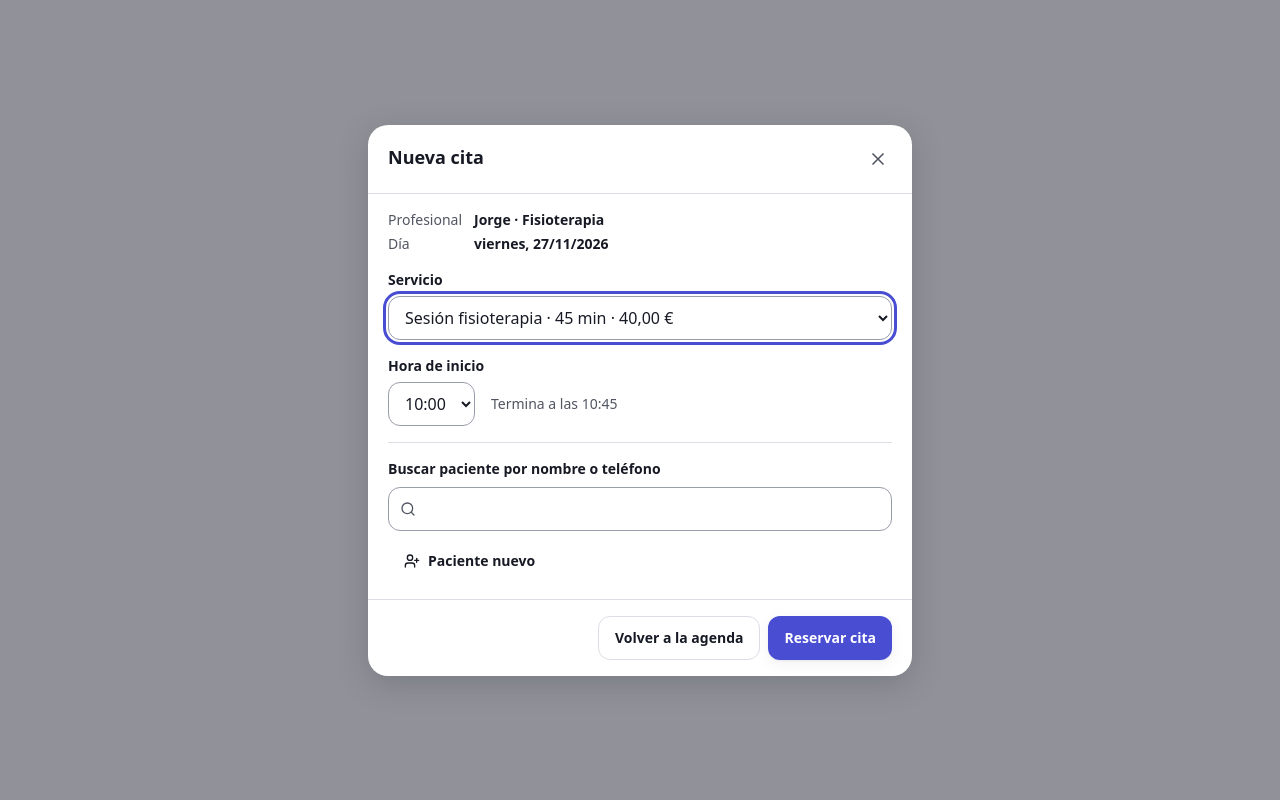
Test: DialogoAltaCita › [001][FR-018] el buscador encuentra pacientes por nombre o teléfono a partir de 2 caracteres
The width and height of the screenshot is (1280, 800).
In the dropdown labelled "Buscar paciente por nombre o teléfono": [640, 508] box [388,486,892,530], type "a"
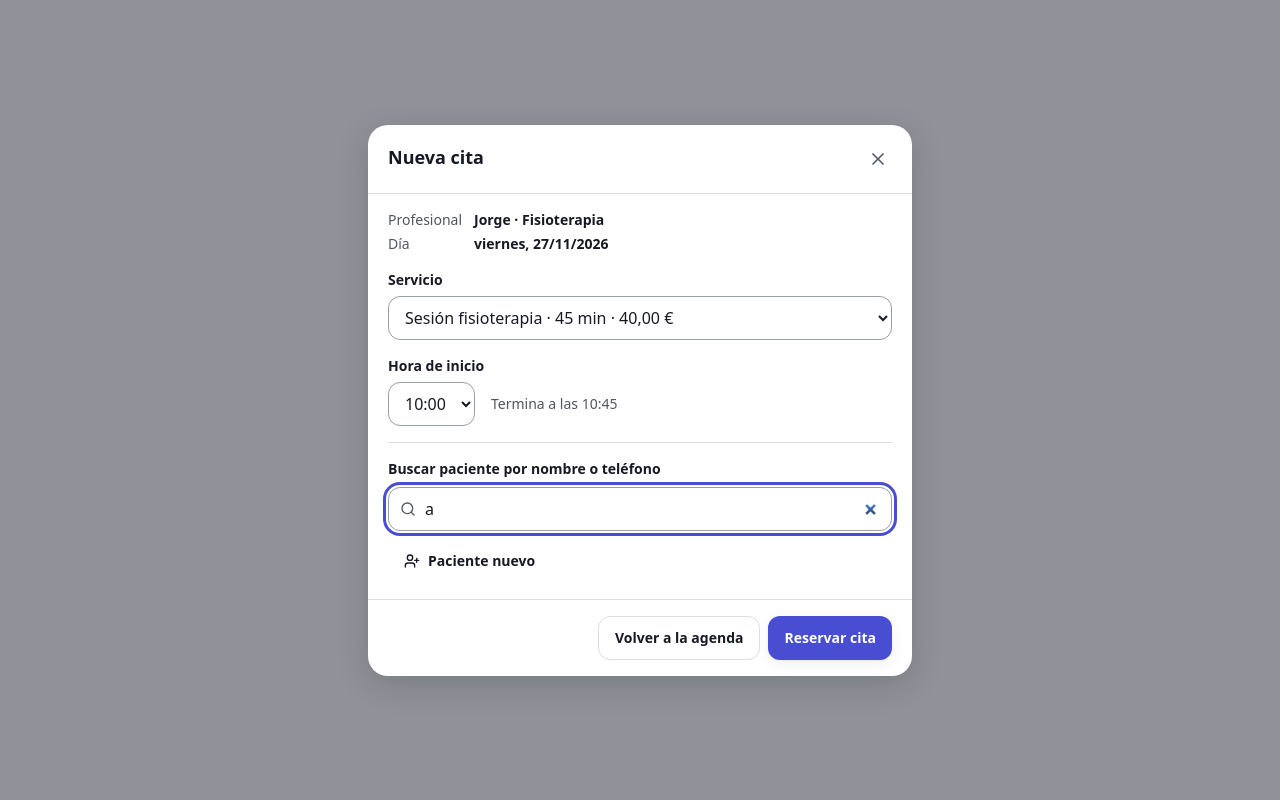
In the dropdown labelled "Buscar paciente por nombre o teléfono": [640, 508] box [388,486,892,530], type "n"
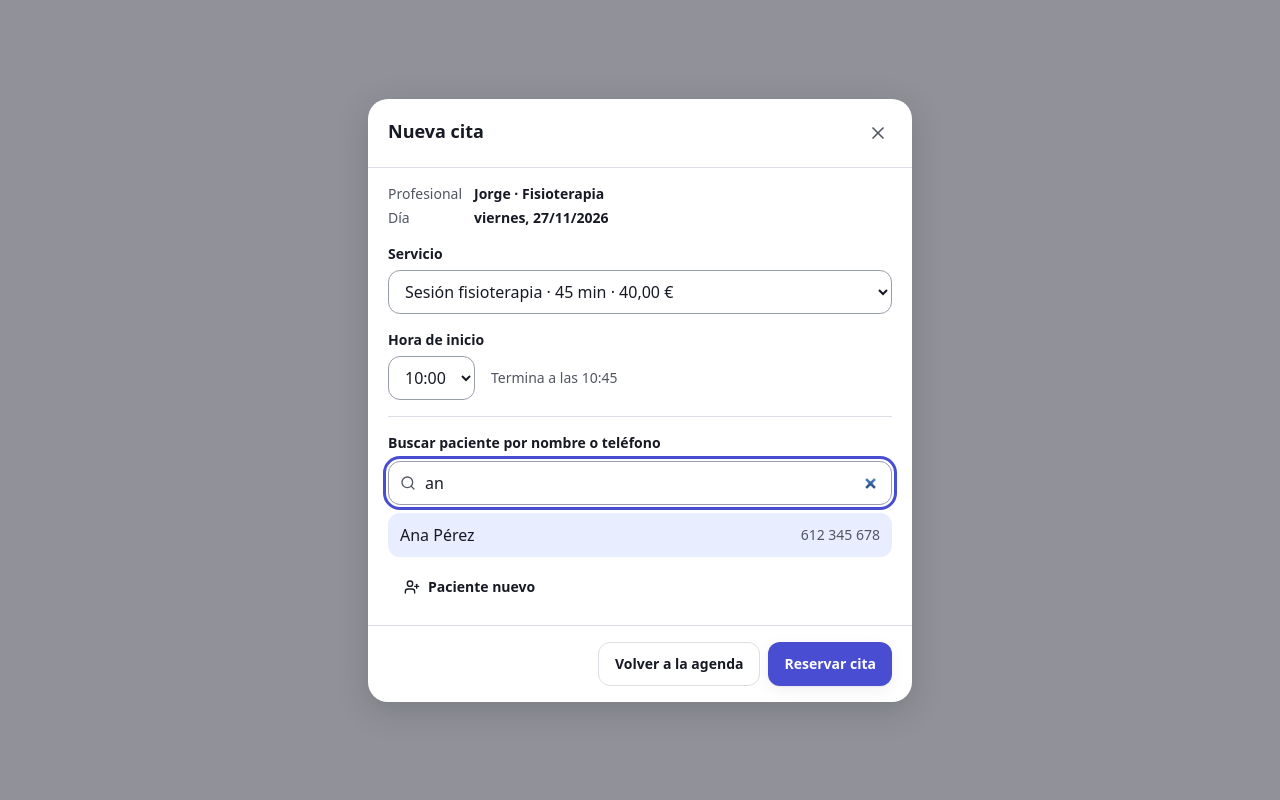
Result: the option "Ana Pérez 612 345 678" is shown at [388,512,892,556]
Press Enter
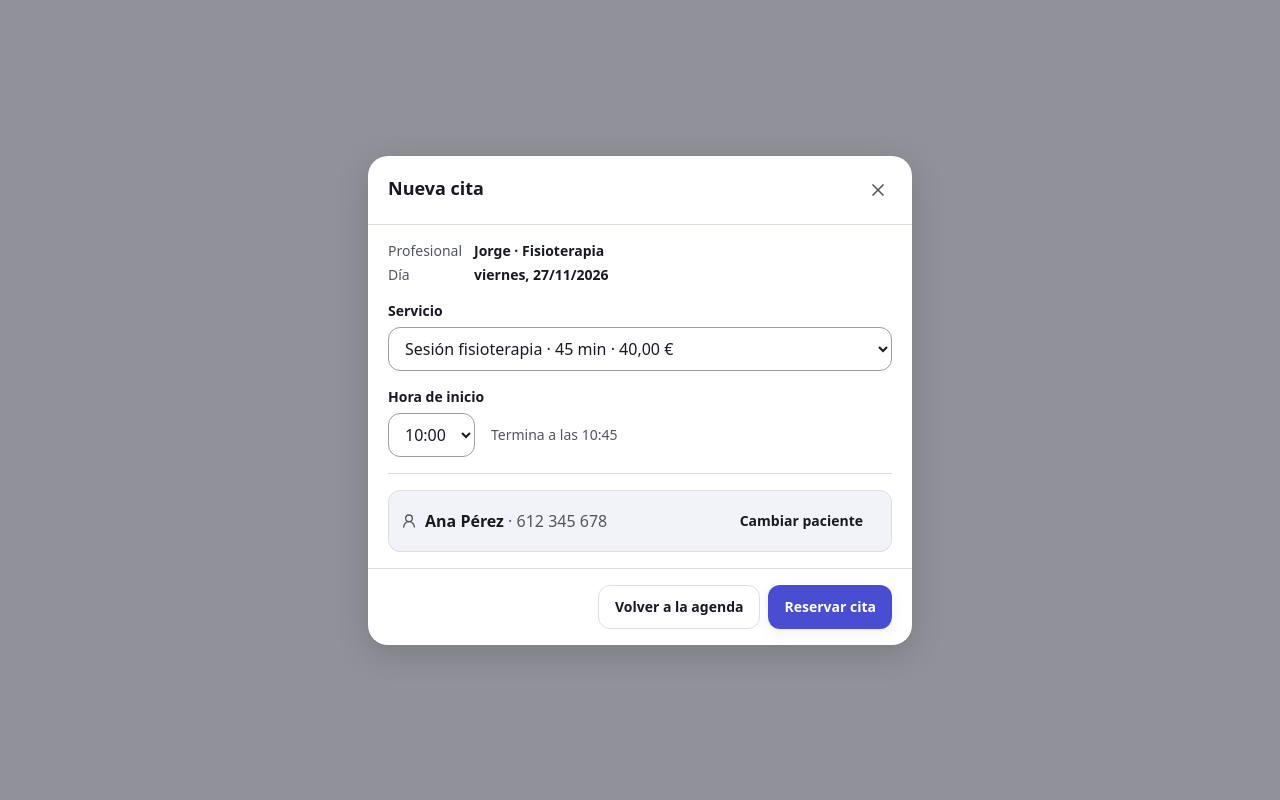
Result: the button "Cambiar paciente" is shown at [724,498,879,542]
